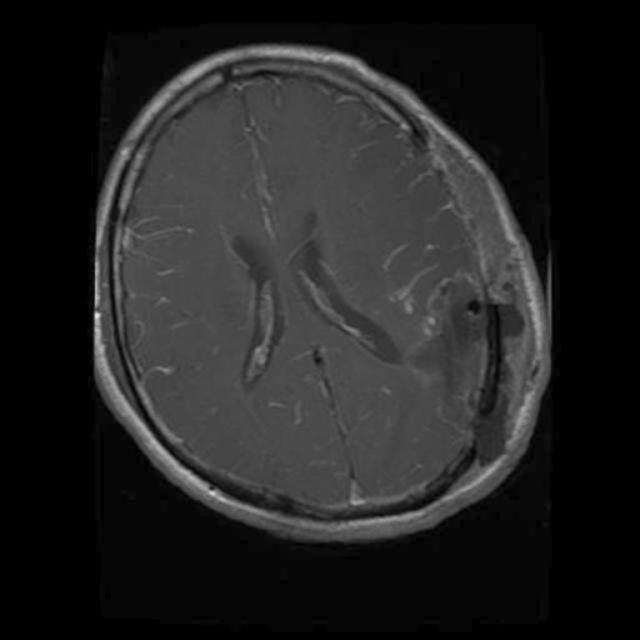pituitary tumor: (430, 274, 501, 420)
